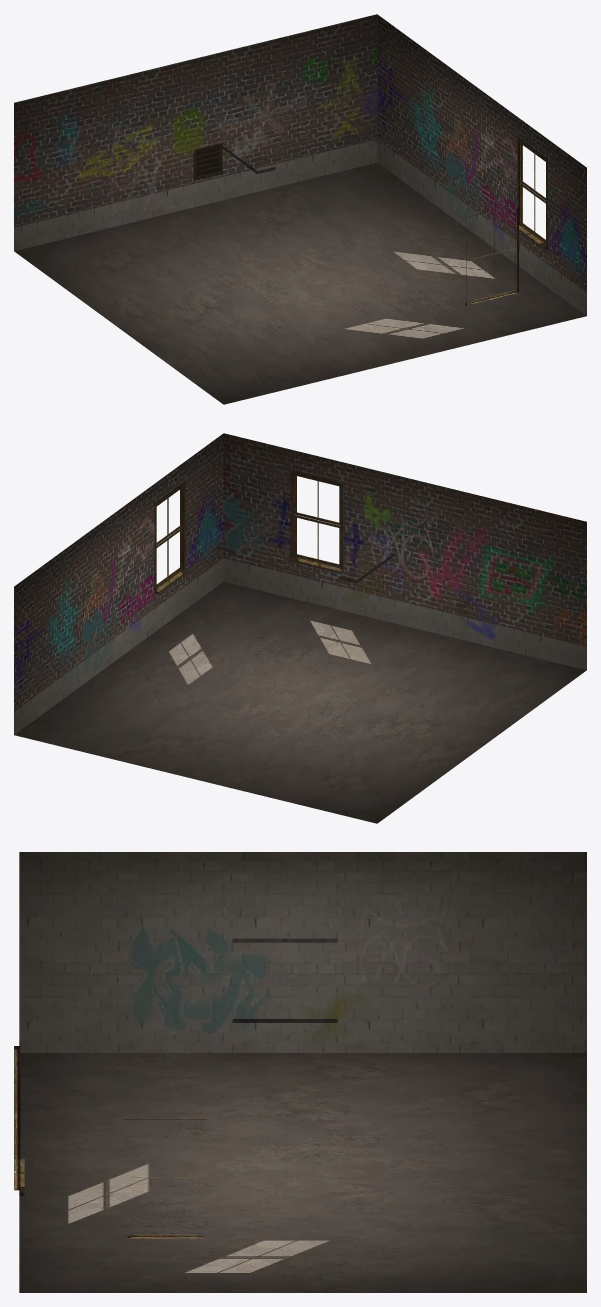
The model's file is low_poly_abandoned_brick_room-opt.glb.
3 renders of one model, top to bottom at view 1: azimuth 30°, elevation 25°; view 2: azimuth 150°, elevation 25°; view 3: azimuth 270°, elevation 25°, orthographic. The views are drawn at different scales.
Parts seen in each view (by area): view 1: Object_2; view 2: Object_2; view 3: Object_2.
Boxes of the visible parts, x1,y1,x2,y2 form: Object_2: [14, 14, 586, 404]; Object_2: [14, 433, 586, 823]; Object_2: [14, 852, 586, 1292].
Size of the model in its own units: 9.96 by 3.85 by 9.96.
1 material, 1 textured.
